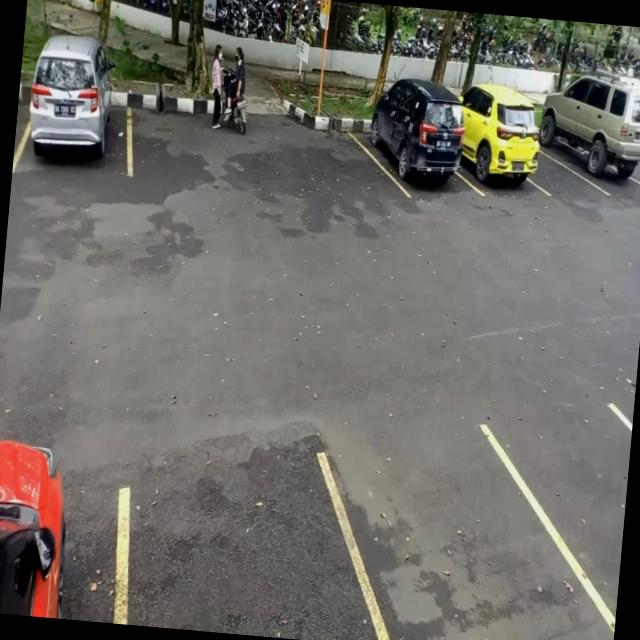car: (19, 62, 138, 178), (362, 92, 468, 197), (535, 85, 640, 191), (462, 101, 544, 202), (12, 66, 32, 176)
free: (337, 413, 622, 640), (114, 441, 392, 640)
